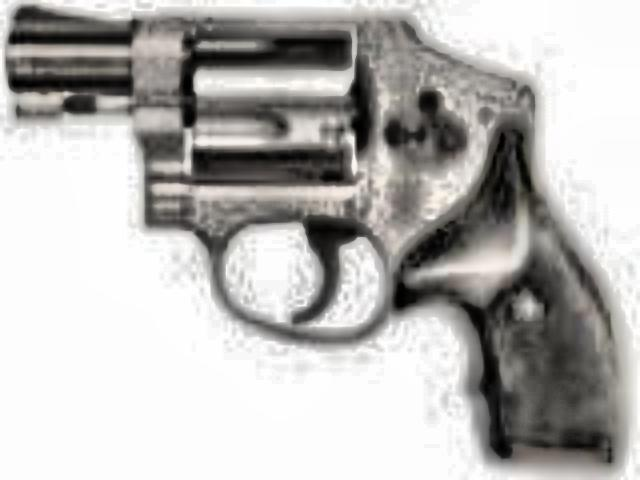pistol: (4, 0, 616, 472)
